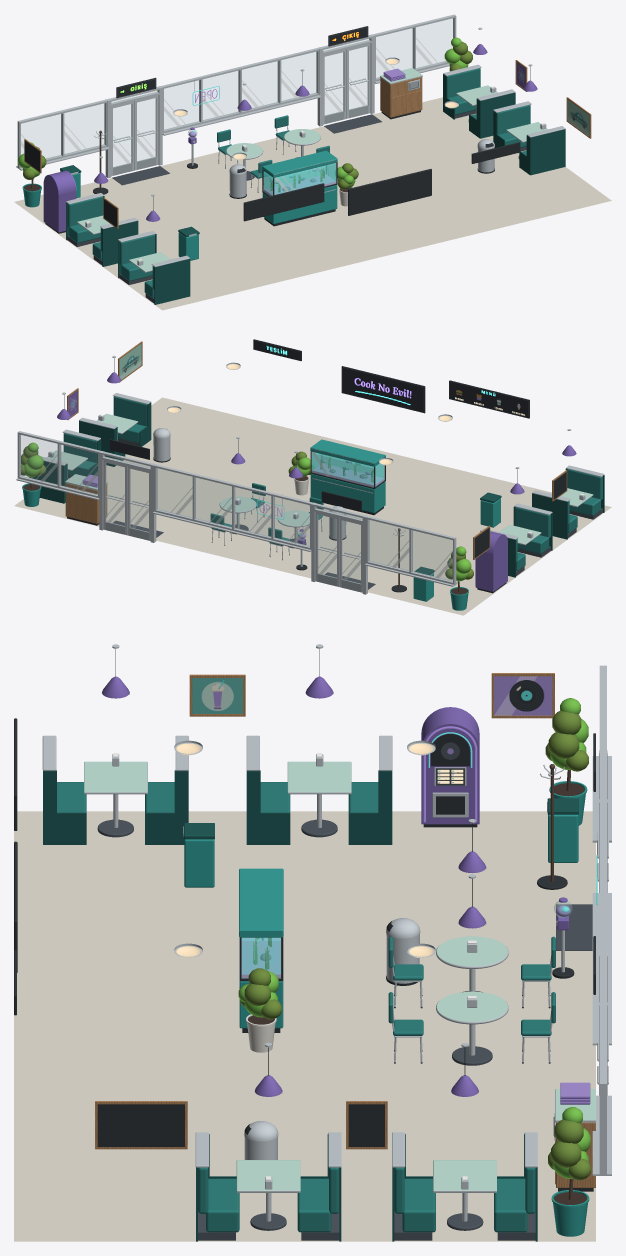
File: Salon_Yerlesim.glb
3 views of the same model, one above another, from view 1: azimuth 30°, elevation 25°; view 2: azimuth 150°, elevation 25°; view 3: azimuth 270°, elevation 25° (orthographic). The views are drawn at different scales.
Visible parts, largest first — view 1: Ref_Zemin_1400x800, Glass (×4), SM_Booth_2_1, Leaf_R (×2), SM_Booth_2_3, Leaf_L (×2), SM_Booth_2_4, SM_Booth_2_2, SM_Aquarium, SM_StorefrontBay_B, SM_LogoSign, SM_BinCabinet (+21 smaller); view 2: Ref_Zemin_1400x800, Glass (×4), SM_Aquarium, Leaf_R (×2), Leaf_L (×2), SM_Booth_2_1, SM_Booth_2_3, SM_Booth_2_2, SM_StorefrontBay_B, SM_LogoSign, SM_Booth_2_4, SM_MenuBoard (+20 smaller); view 3: Ref_Zemin_1400x800, SM_Booth_2_2, SM_Booth_2_3, SM_Booth_2_4, SM_Booth_2_1, SM_Jukebox, SM_Aquarium, SM_Painting_Araba, SM_PlantTall_2, SM_PlantTall_1, SM_Painting_Plak, SM_StorefrontBay_B (+20 smaller).
Part boxes in pixels (<box>): Ref_Zemin_1400x800: <box>14,97,611,310</box>; Glass (×4): <box>21,19,453,195</box>; SM_Booth_2_1: <box>118,231,190,304</box>; Leaf_R (×2): <box>134,43,370,170</box>; SM_Booth_2_3: <box>493,101,565,175</box>; Leaf_L (×2): <box>111,49,346,176</box>; SM_Booth_2_4: <box>443,64,515,138</box>; SM_Booth_2_2: <box>66,193,138,266</box>; SM_Aquarium: <box>262,150,337,226</box>; SM_StorefrontBay_B: <box>161,48,321,135</box>; SM_LogoSign: <box>348,169,431,215</box>; SM_BinCabinet: <box>380,68,422,119</box>; Ref_Zemin_1400x800: <box>14,397,611,615</box>; Glass (×4): <box>20,435,452,581</box>; SM_Aquarium: <box>310,439,385,515</box>; Leaf_R (×2): <box>103,460,339,586</box>; Leaf_L (×2): <box>127,466,362,592</box>; SM_Booth_2_1: <box>532,465,604,539</box>; SM_Booth_2_3: <box>79,393,151,466</box>; SM_Booth_2_2: <box>480,503,552,577</box>; SM_StorefrontBay_B: <box>153,464,312,551</box>; SM_LogoSign: <box>341,366,425,413</box>; SM_Booth_2_4: <box>29,429,101,503</box>; SM_MenuBoard: <box>449,380,529,418</box>; Ref_Zemin_1400x800: <box>14,811,595,1241</box>; SM_Booth_2_2: <box>246,735,392,844</box>; SM_Booth_2_3: <box>195,1132,341,1241</box>; SM_Booth_2_4: <box>392,1132,537,1241</box>; SM_Booth_2_1: <box>42,735,188,844</box>; SM_Jukebox: <box>421,707,479,827</box>; SM_Aquarium: <box>239,868,283,1032</box>; SM_Painting_Araba: <box>95,1101,187,1149</box>; SM_PlantTall_2: <box>548,1107,590,1236</box>; SM_PlantTall_1: <box>545,698,588,825</box>; SM_Painting_Plak: <box>491,673,554,718</box>; SM_StorefrontBay_B: <box>592,802,611,1045</box>.
Bounding box in the file's own units: 14.05 × 2.75 × 8.22.
Materials: 19 (18 with a texture image).
